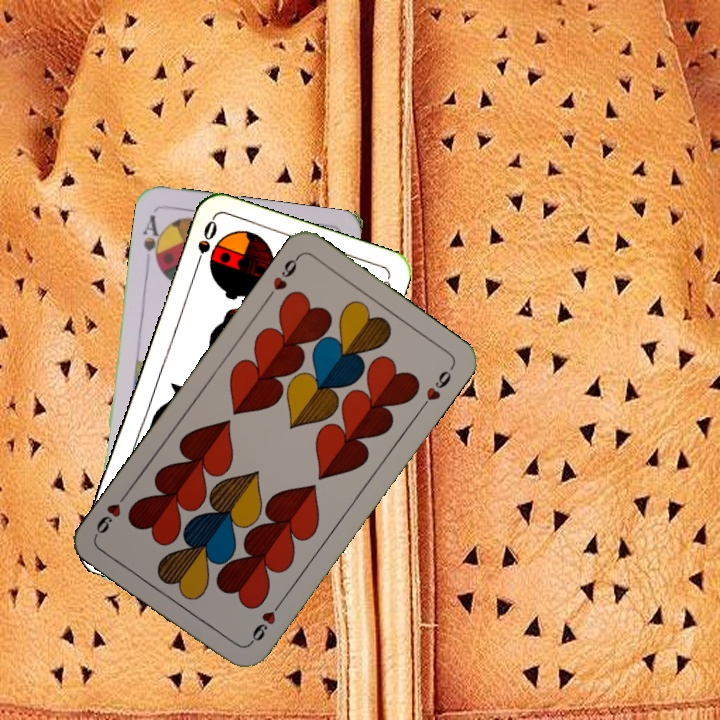H9: (262, 251, 303, 302), (245, 597, 285, 648)
SA: (138, 210, 166, 270)
SO: (190, 216, 220, 273)
